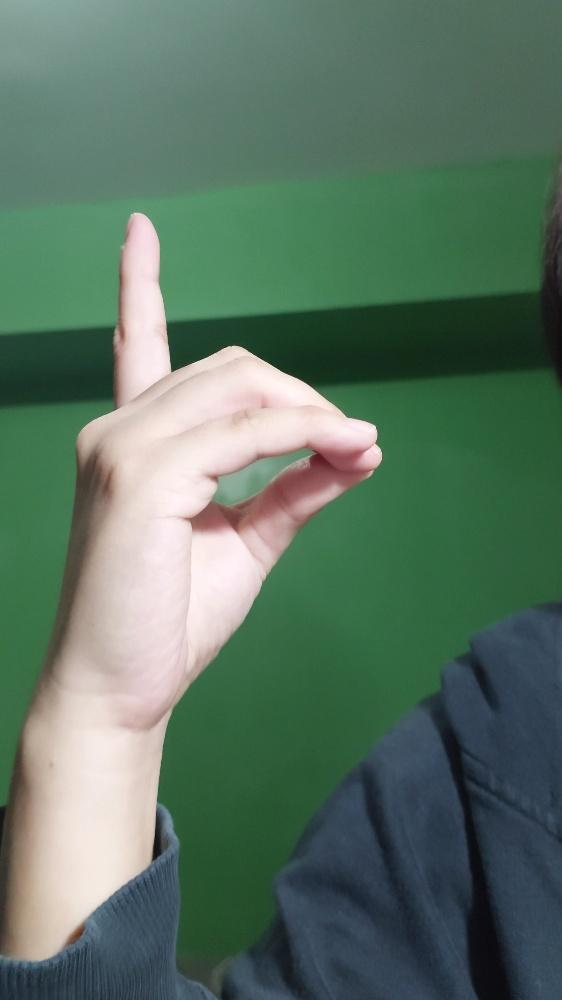d: (43, 210, 384, 729)
